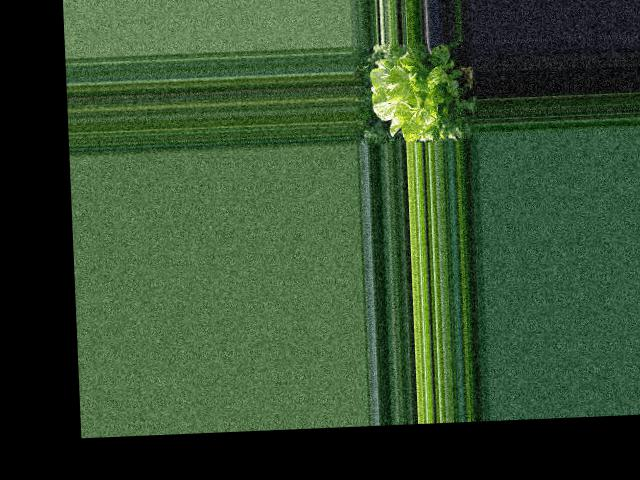lettuce: (370, 44, 457, 133)
